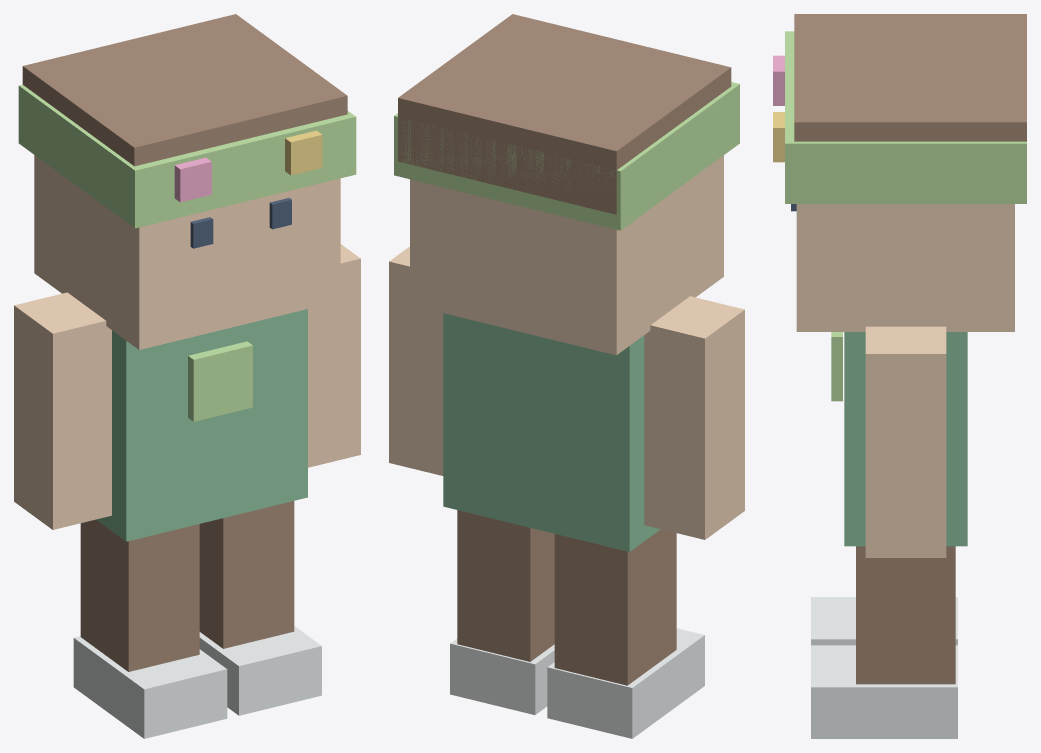
The model's file is weirdo_7_tree_hugger.glb.
3 renders of one model, left to right at view 1: azimuth 30°, elevation 25°; view 2: azimuth 150°, elevation 25°; view 3: azimuth 270°, elevation 25°, orthographic. The views are drawn at different scales.
Parts seen in each view (by area): view 1: Head, RootBody, Hair, Arm_L, LeafHat, Leg_L, Leg_R, Shoe_L, Arm_R, Shoe_R, TreeFriendBadge, Flower_L (+3 smaller); view 2: Hair, RootBody, Head, Arm_L, Leg_L, LeafHat, Leg_R, Arm_R, Shoe_L, Shoe_R; view 3: Hair, Head, Arm_R, LeafHat, Leg_R, Shoe_R, RootBody, Shoe_L, TreeFriendBadge, Flower_L, Flower_R.
Boxes of the visible parts, x1=… form: Head: x1=34, y1=155, x2=340, y2=349; RootBody: x1=96, y1=309, x2=307, y2=541; Hair: x1=22, y1=14, x2=347, y2=166; Arm_L: x1=14, y1=292, x2=111, y2=529; LeafHat: x1=18, y1=84, x2=356, y2=228; Leg_L: x1=80, y1=519, x2=199, y2=671; Leg_R: x1=199, y1=501, x2=294, y2=648; Shoe_L: x1=73, y1=636, x2=227, y2=738; Arm_R: x1=308, y1=244, x2=360, y2=467; Shoe_R: x1=199, y1=626, x2=321, y2=715; TreeFriendBadge: x1=188, y1=341, x2=252, y2=421; Flower_L: x1=174, y1=157, x2=211, y2=202; Hair: x1=398, y1=14, x2=731, y2=214; RootBody: x1=443, y1=313, x2=660, y2=551; Head: x1=410, y1=155, x2=723, y2=355; Arm_L: x1=644, y1=296, x2=744, y2=539; Leg_L: x1=554, y1=529, x2=676, y2=685; LeafHat: x1=394, y1=82, x2=739, y2=230; Leg_R: x1=457, y1=510, x2=554, y2=661; Arm_R: x1=389, y1=246, x2=443, y2=475; Shoe_L: x1=547, y1=628, x2=704, y2=738; Shoe_R: x1=450, y1=638, x2=554, y2=714; Hair: x1=794, y1=14, x2=1026, y2=141; Head: x1=796, y1=204, x2=1014, y2=331; Arm_R: x1=865, y1=326, x2=946, y2=557; LeafHat: x1=785, y1=31, x2=1026, y2=203; Leg_R: x1=856, y1=546, x2=955, y2=684; Shoe_R: x1=811, y1=645, x2=957, y2=738; RootBody: x1=844, y1=332, x2=967, y2=546; Shoe_L: x1=811, y1=597, x2=957, y2=645; TreeFriendBadge: x1=831, y1=332, x2=842, y2=401; Flower_L: x1=773, y1=55, x2=784, y2=105; Flower_R: x1=773, y1=112, x2=784, y2=162.
Bounding box in the file's own units: 1.56 × 2.91 × 1.07.
